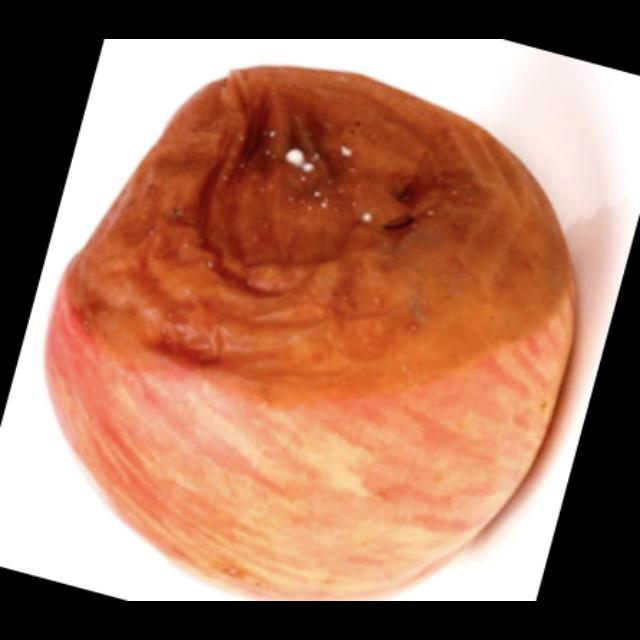Apel Tidak Segar: (46, 63, 580, 601)
